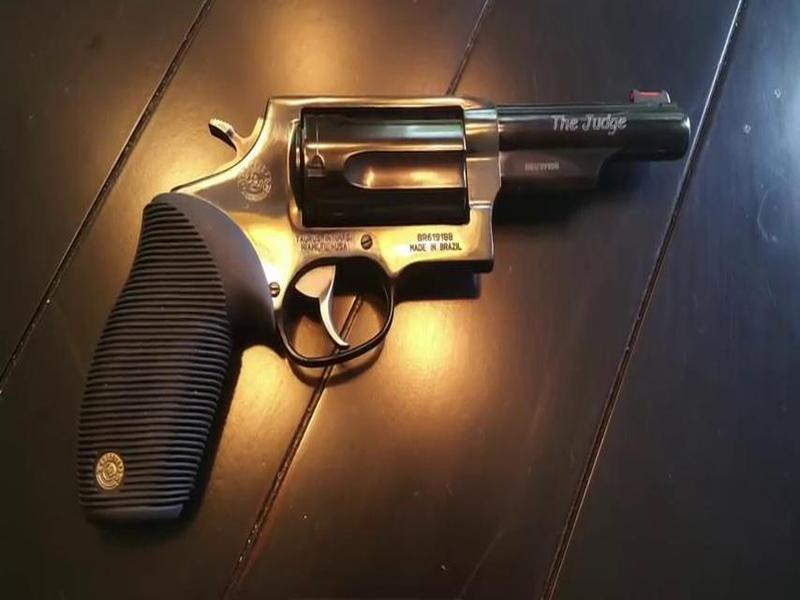Revolver: (91, 87, 747, 424)
